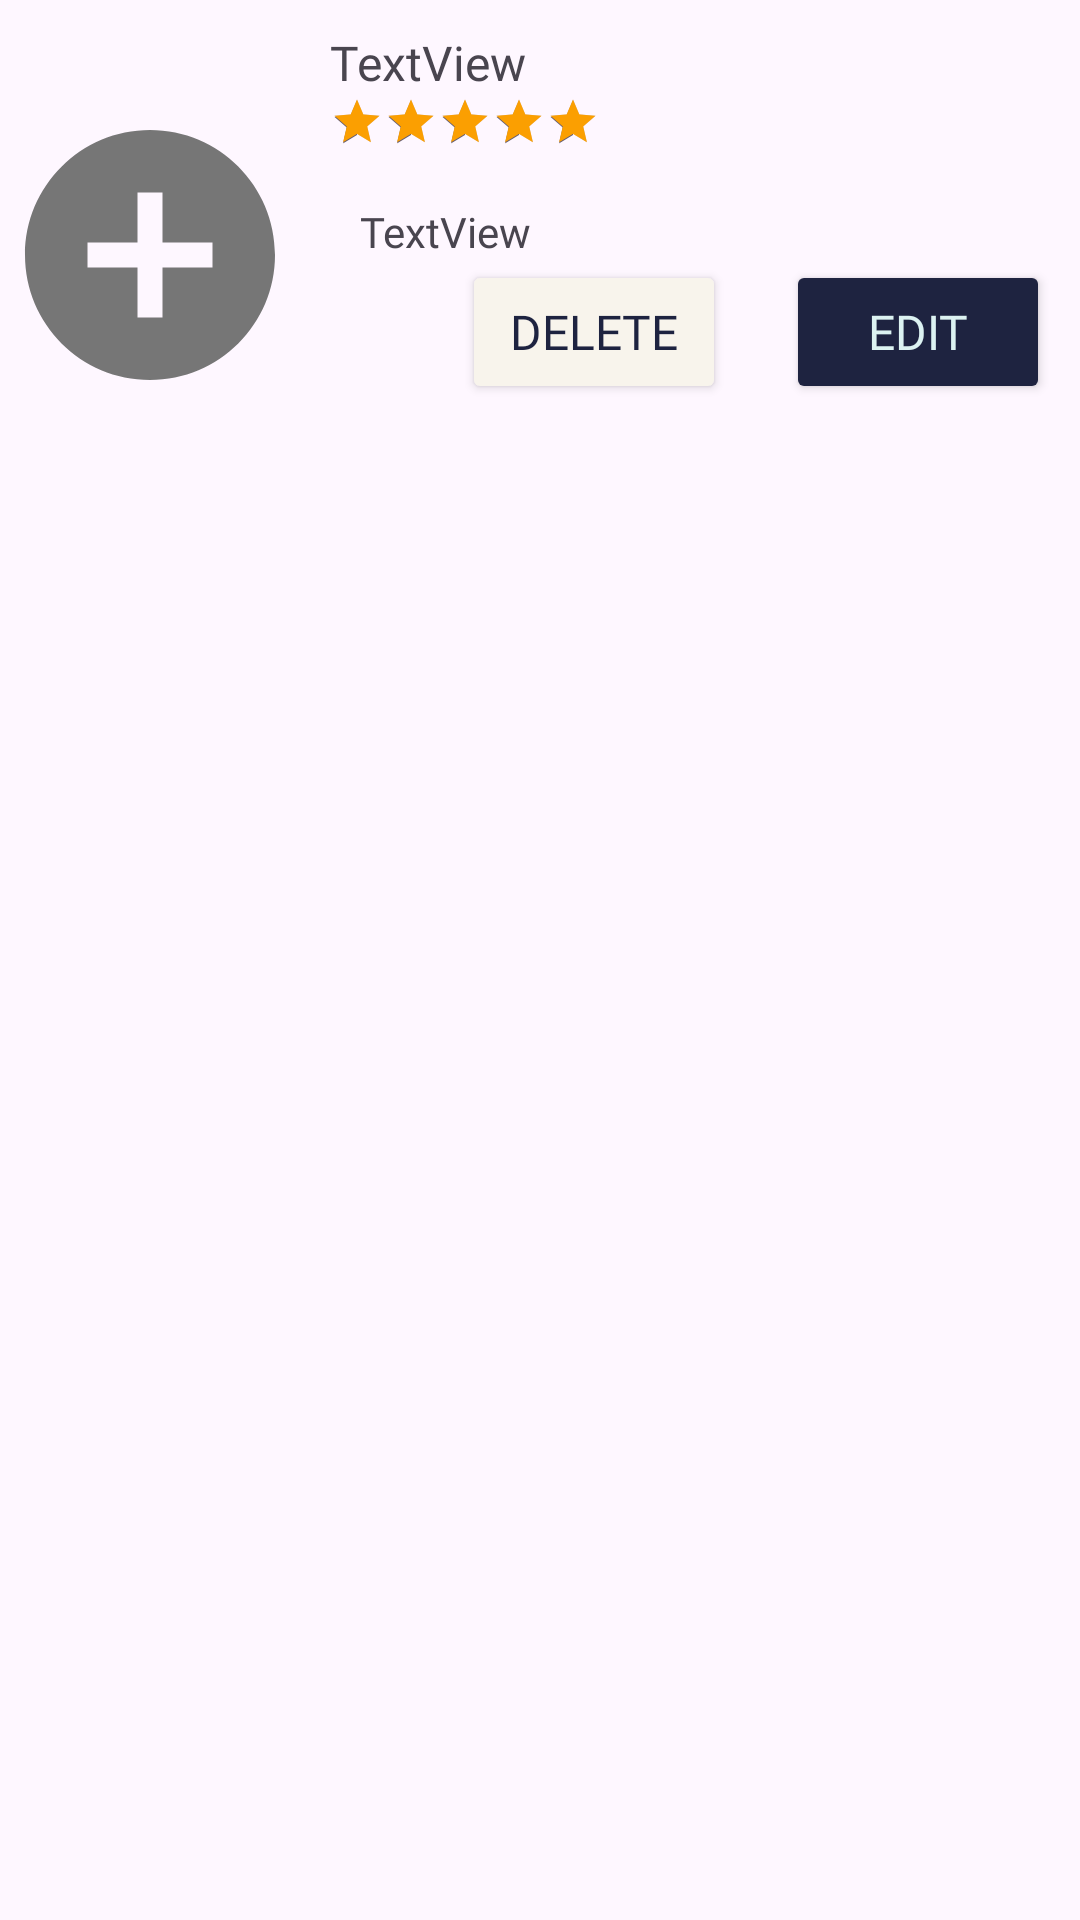

Icon bounding boxes for this 1080w x 1920h phone screenshot, format rect(x1, y1, x2, y2):
add circle: rect(25, 130, 275, 380)
